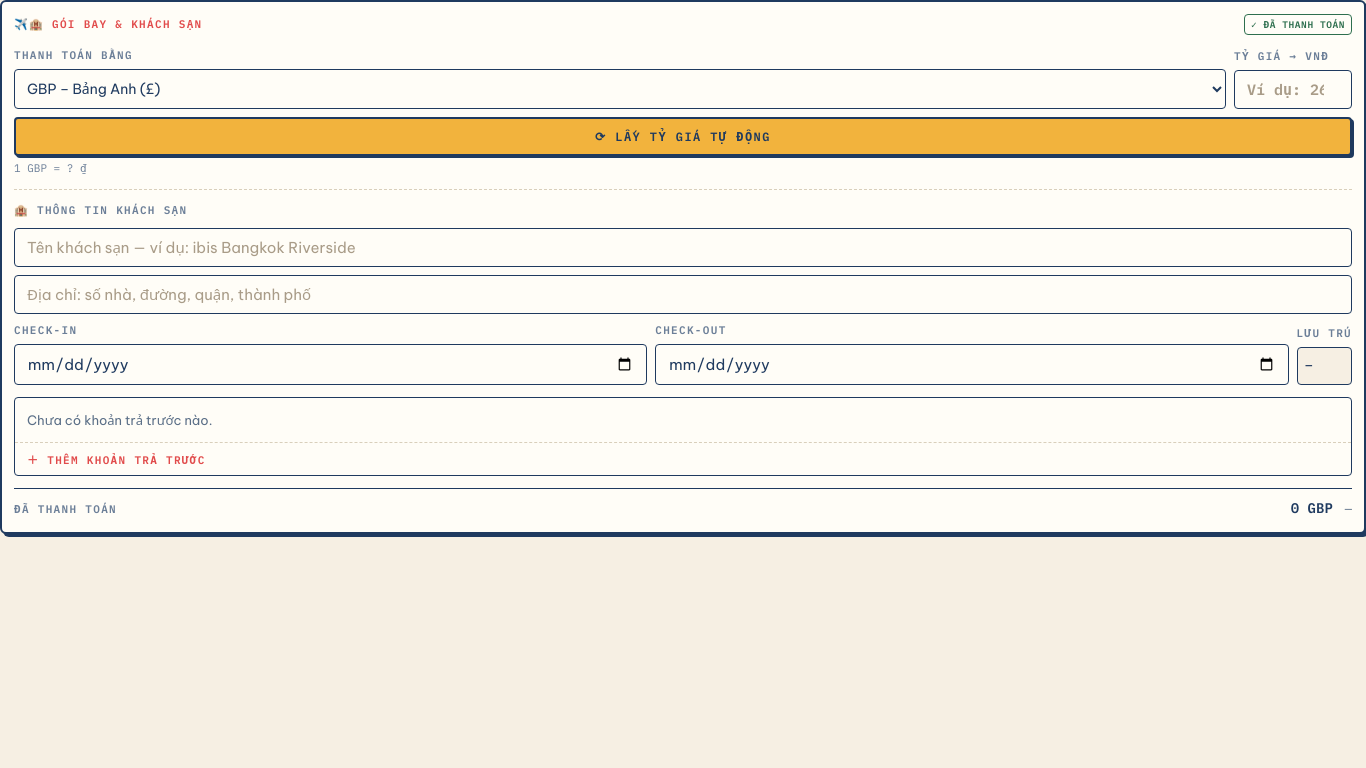
Test: ✈️🏨 TheGoiBay › khách sạn: số đêm tự tính như v9.6, check-out trước check-in thì báo lỗi
Type "2026-08-01" into the date field labelled "Check-in" at (331, 364), box [14,344,647,385]
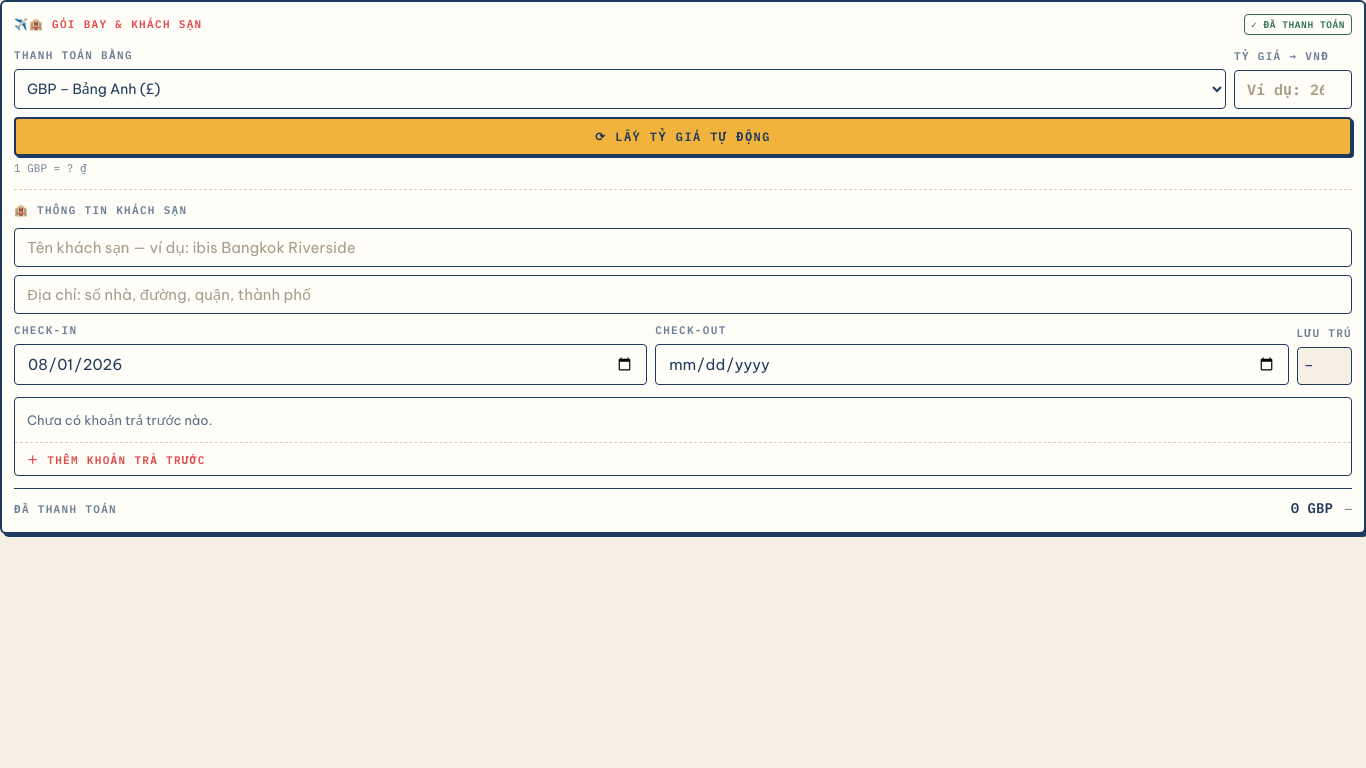
Type "2026-08-04" into the date field labelled "Check-out" at (972, 364), box [655,344,1289,385]
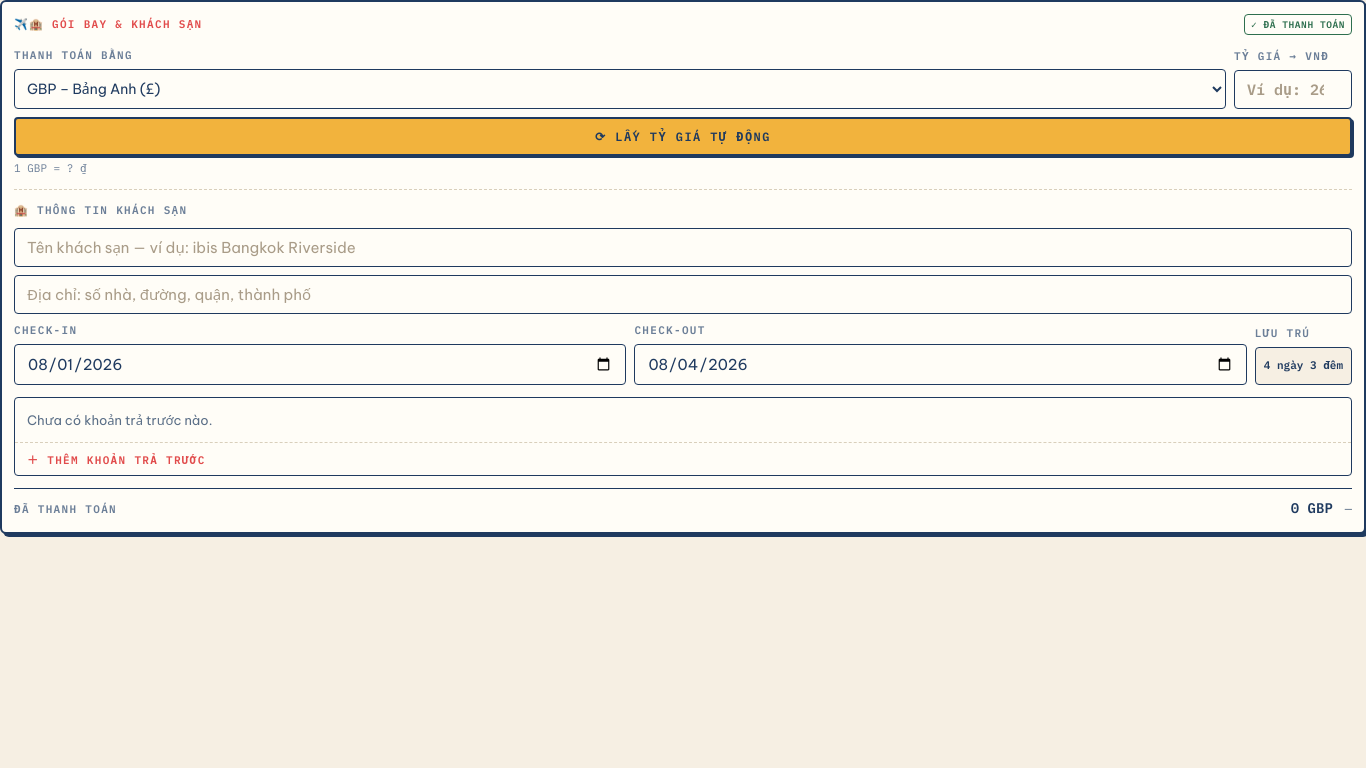
Expected: the message with class "gb__dem" reads "4 ngày 3 đêm", [1264,358,1343,372]
Type "2026-07-30" into the date field labelled "Check-out" at (941, 364), box [634,344,1247,385]
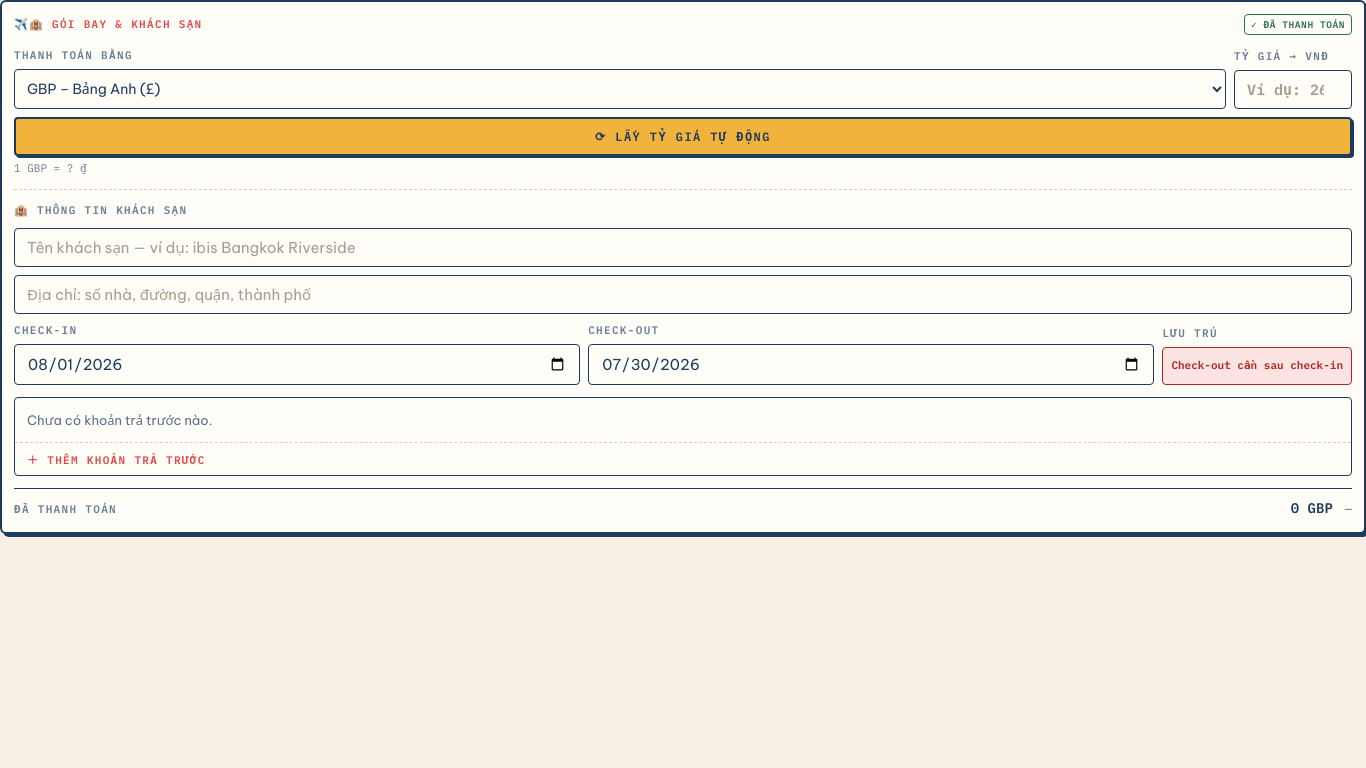
Expected: the message with class "gb__dem" reads "Check-out cần sau check-in", [1171,358,1343,372]
Expected: the message "Check-out cần sau check-in" is shown, [1162,347,1352,385]
